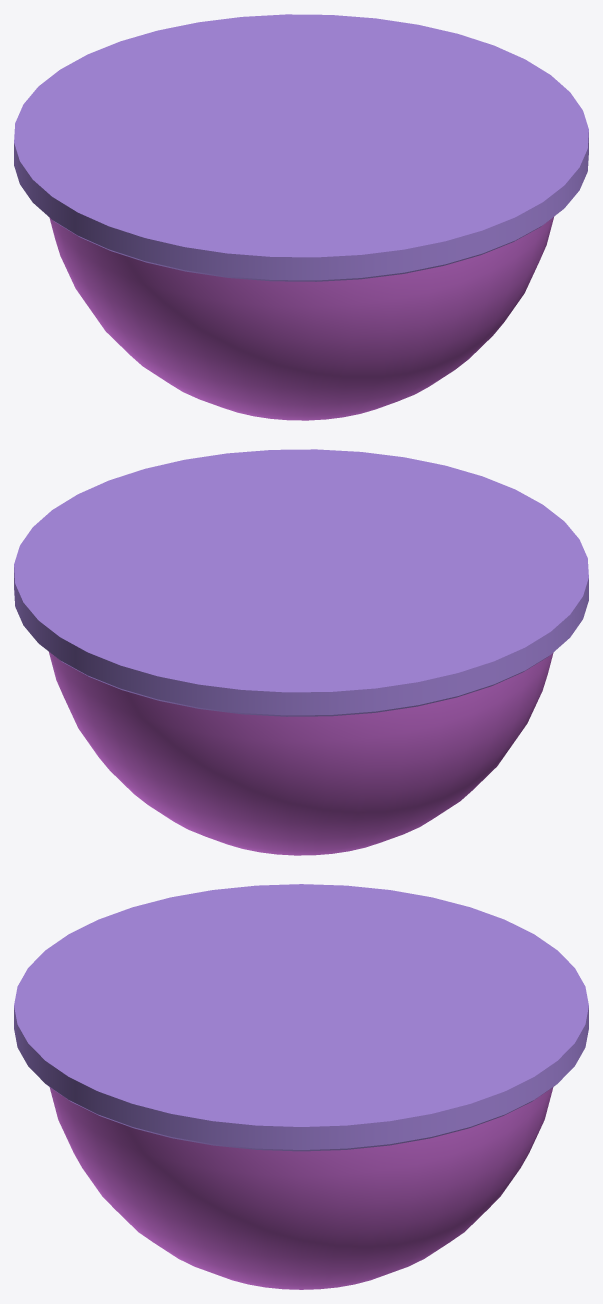
Rendered from ceilLamp.fbx.
3 views of the same model, one above another, from view 1: azimuth 30°, elevation 25°; view 2: azimuth 150°, elevation 25°; view 3: azimuth 270°, elevation 25° (orthographic).
Visible parts, largest first — view 1: ceilLamp; view 2: ceilLamp; view 3: ceilLamp.
Boxes of the visible parts, x1=… form: ceilLamp: x1=14, y1=14, x2=588, y2=420; ceilLamp: x1=14, y1=449, x2=588, y2=855; ceilLamp: x1=14, y1=884, x2=588, y2=1289.
Size of the model in its own units: 39.11 by 19.53 by 39.11.
